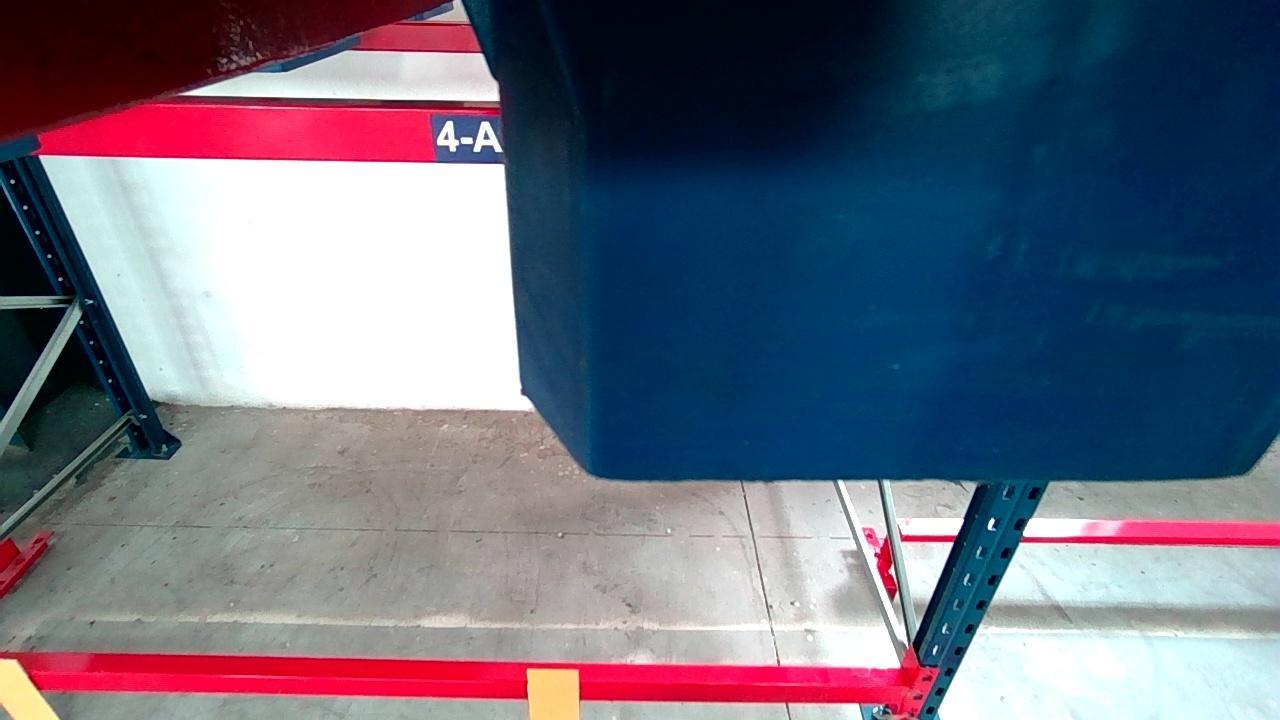h_rack: (36, 100, 502, 161), (24, 673, 907, 705)
